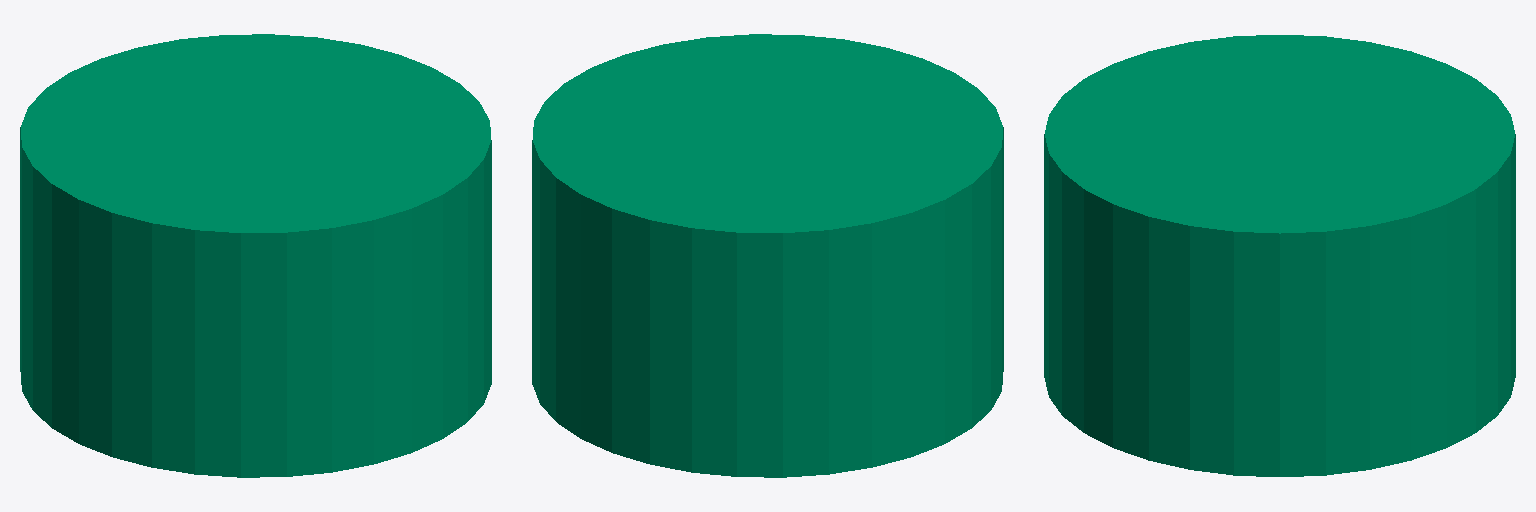
The robot description file, URDF, robot "ppbot":
<?xml version="1.0" ?>
<!--simple pp branching robot-->

<robot name="ppbot">
    <link name="base_link">
    </link>

    <link name="link0">
        <inertial>
            <origin xyz="0.0 0.0 0.0" rpy="0 0 0" />
            <mass value="0.0000000000001" />
            <inertia ixx="0.0001" iyy="0.0001" izz="0.0001" ixy="0" ixz="0" iyz="0" />
        </inertial>
    </link>

    <link name="link1">
        <inertial>
            <origin xyz="0.0 0.0 0.0" rpy="0 0 0" />
            <!-- <mass value="0.000001" /> -->
            <mass value="1" />
            <inertia ixx="0.000001" iyy="0.000001" izz="0.000001" ixy="0" ixz="0" iyz="0" />
        </inertial>
        <visual>
            <origin xyz="0.0 0.0 0.000001" rpy="0.0 0.0 0.0"/>
            <geometry>
                <cylinder radius="0.035" length="0.04"/>
            </geometry>
            <material name="red">
                <!-- <color rgba="0.5294, 0.8078, 0.9216 1.0"/> -->
                <color rgba="0.2706, 0.4353, 0.6784 1.0"/>
            </material>
        </visual>
    </link>

    <joint name="j0" type="prismatic">
        <parent link="base_link" />
        <child link="link0" />
        <origin xyz="0.000000 0.000000 0.000000" rpy="-0.000000 0.000000 -0.000000" />
        <axis xyz="1 0 0" />
        <limit lower="-2.967" upper="2.967" effort="176" velocity="1.7104" />
    </joint>

    <joint name="j1" type="prismatic">
        <parent link="link0" />
        <child link="link1" />
        <origin xyz="0.000000 0.000000 0.000000" rpy="-0.000000 0.000000 -0.000000" />
        <axis xyz="0 1 0" />
        <limit lower="-2.967" upper="2.967" effort="176" velocity="1.7104" />
    </joint>


</robot>

--- What the picture shows (computed from the rendered views, not written in the file) ---
The picture shows the robot from 3 angles, left to right: view 1: azimuth 30°, elevation 25°; view 2: azimuth 150°, elevation 25°; view 3: azimuth 270°, elevation 25°; orthographic projection.
Robot: ppbot — 3 links, 2 joints (2 prismatic); root link base_link; default pose: every joint at zero.
Visible links, largest first — view 1: link1; view 2: link1; view 3: link1.
Link boxes in pixels (x1,y1,x2,y2): link1: (20, 34, 491, 477); link1: (532, 34, 1003, 477); link1: (1044, 35, 1515, 476).
Bounding box of the posed robot: 0.07 × 0.07 × 0.04 m (x, y, z).
Geometry: primitives only (box / cylinder / sphere), no mesh files.
